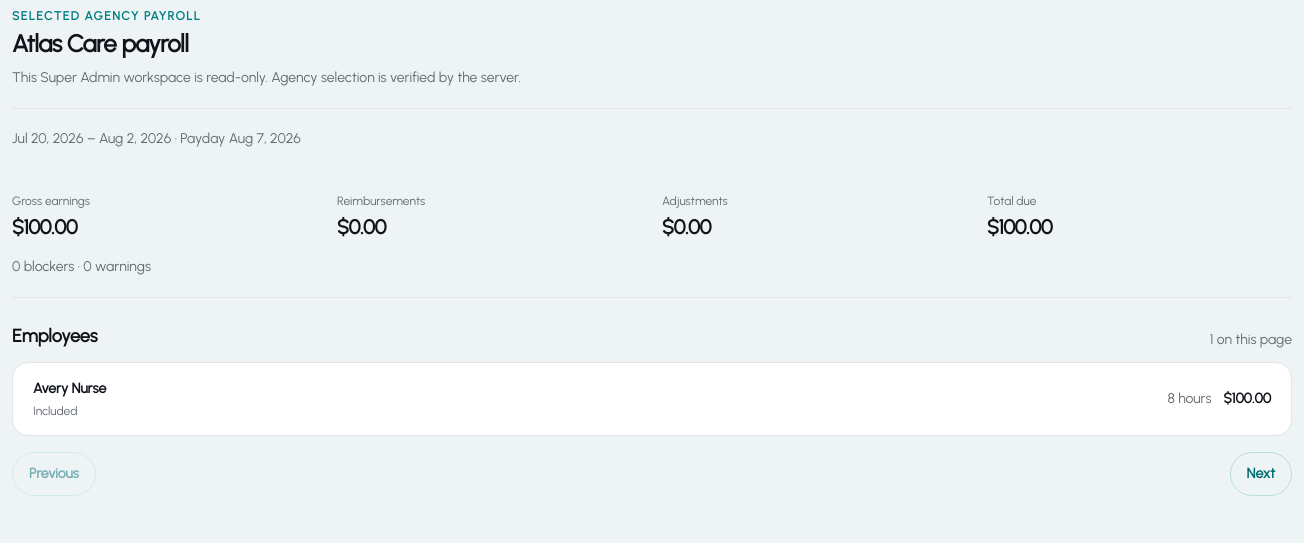
it: SuperAdminAgencyPayrollRunsWorkspace › retains the accepted employee page and reports a pagination failure
This screenshot has width=1304, height=543.
Click the button with aria-label "Next employee page".
click(1261, 474)  # box 1230,452 -> 1292,496
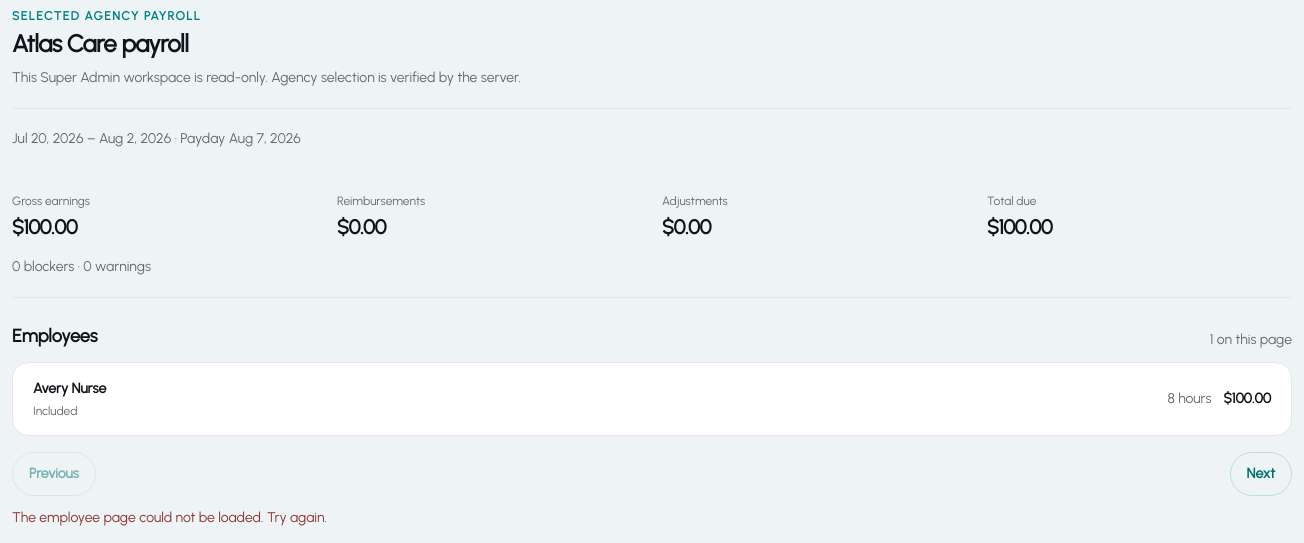
Expected: the text "Avery Nurse" is shown, 33,380 -> 106,397
Expected: the message shows "employee page could not be loaded", 12,509 -> 327,526
